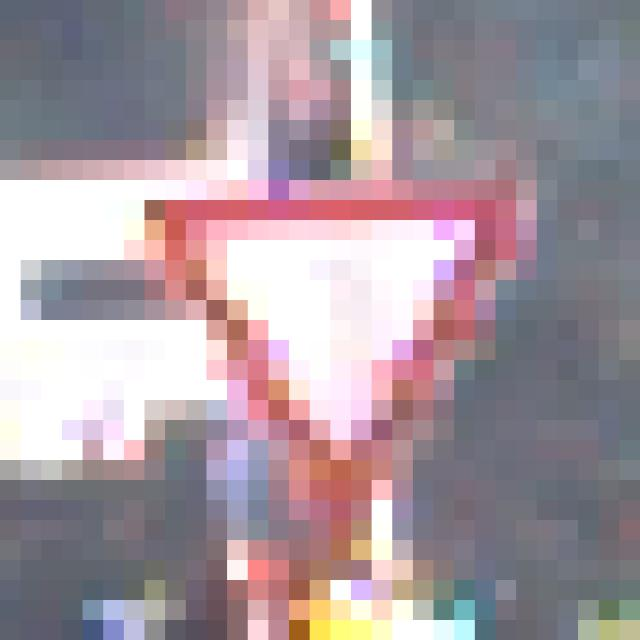Give Way: (125, 121, 538, 541)
